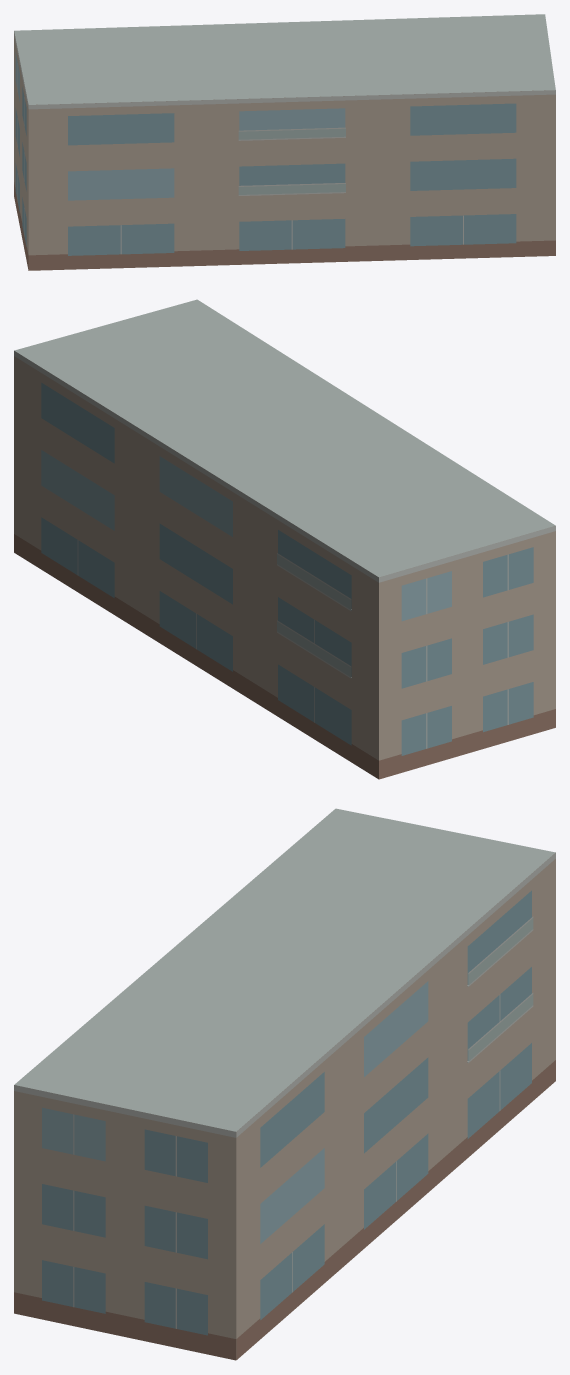
The model's file is survey-upis-32469820.glb.
The picture shows the model from 3 angles, top to bottom: view 1: azimuth 30°, elevation 25°; view 2: azimuth 150°, elevation 25°; view 3: azimuth 270°, elevation 25°; orthographic projection. The views are drawn at different scales.
Parts seen in each view (by area): view 1: survey-upis-32469820.tmp; view 2: survey-upis-32469820.tmp; view 3: survey-upis-32469820.tmp.
Boxes of the visible parts, x1=… form: survey-upis-32469820.tmp: x1=14, y1=14, x2=555, y2=270; survey-upis-32469820.tmp: x1=14, y1=299, x2=555, y2=779; survey-upis-32469820.tmp: x1=14, y1=808, x2=555, y2=1360.
Bounding box in the file's own units: 27.77 × 9.15 × 19.66.
